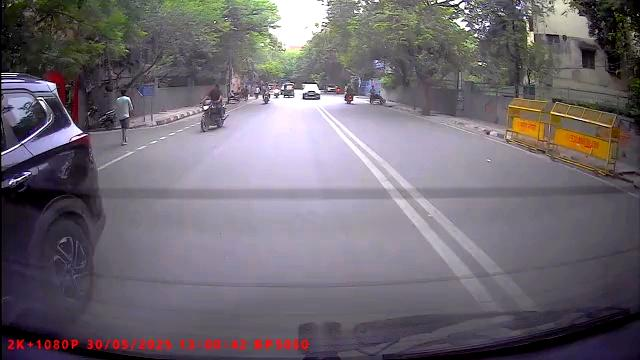motorcycle_without_helmet: (199, 81, 227, 132)
